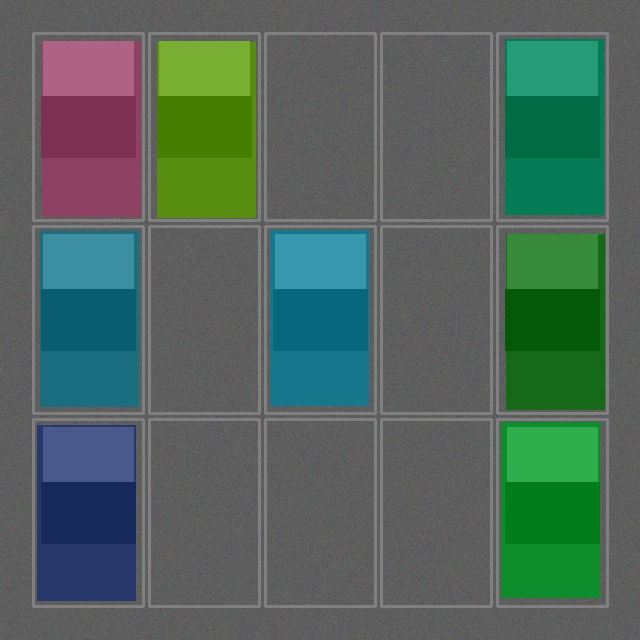space-empty: (267, 35, 373, 218), (383, 35, 489, 218), (151, 228, 257, 411), (383, 228, 489, 411), (151, 421, 257, 604), (267, 421, 373, 604), (383, 421, 489, 604)
space-occupied: (35, 35, 141, 218), (151, 35, 257, 218), (499, 35, 605, 218), (35, 228, 141, 411), (267, 228, 373, 411), (499, 228, 605, 411), (35, 421, 141, 604), (499, 421, 605, 604)
